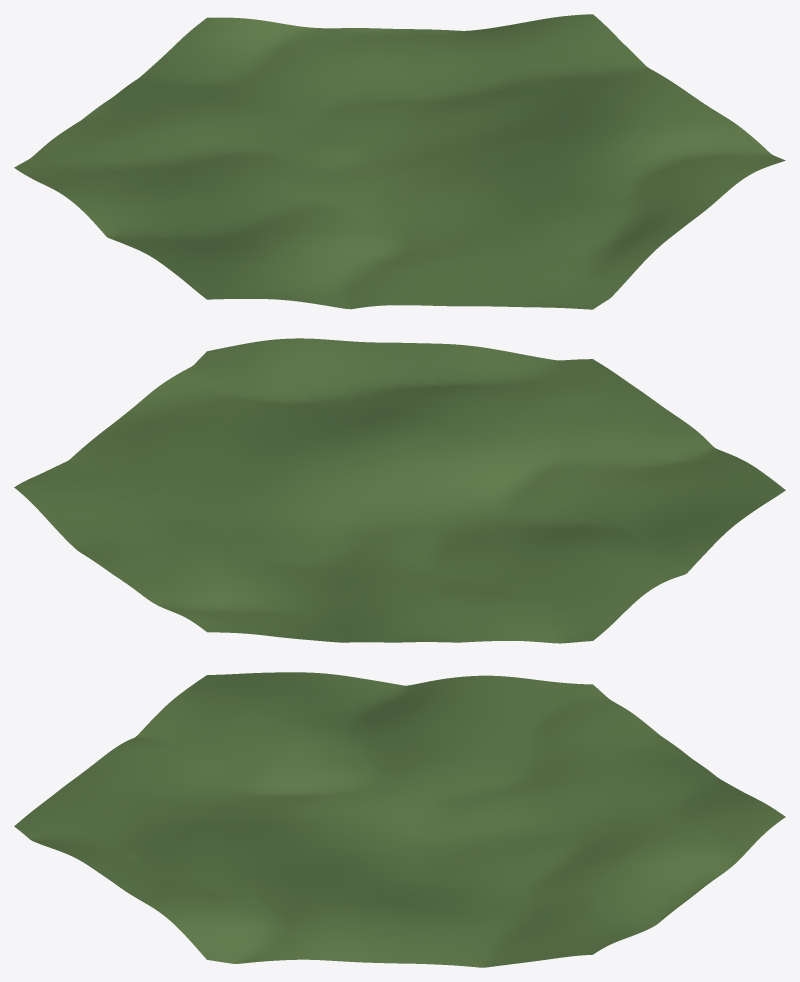
The picture shows the model from 3 angles, top to bottom: view 1: azimuth 30°, elevation 25°; view 2: azimuth 150°, elevation 25°; view 3: azimuth 270°, elevation 25°; orthographic projection.
Parts seen in each view (by area): view 1: JS_+0_13; view 2: JS_+0_13; view 3: JS_+0_13.
Part boxes in pixels (x1,y1,x2,y2): JS_+0_13: (14, 14, 785, 309); JS_+0_13: (14, 338, 785, 643); JS_+0_13: (14, 672, 785, 967).
Bounding box in the file's own units: 4330 × 196 × 5000.
